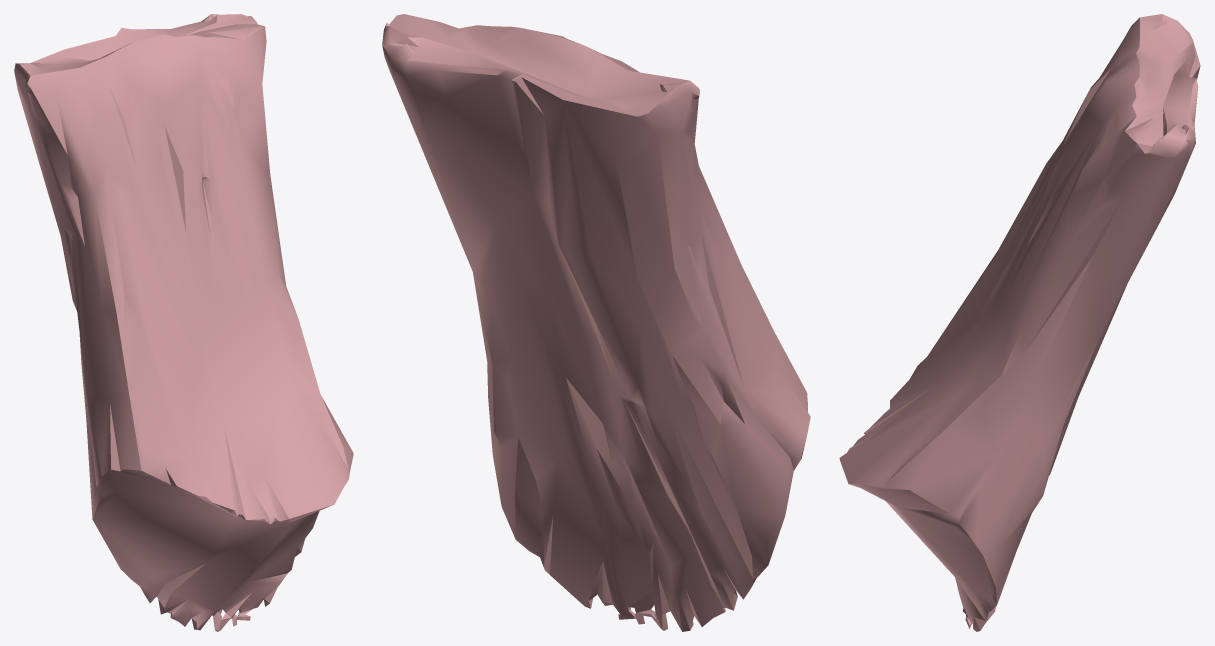
Rendered from fma55230_fj2807.glb.
3 views of the same model, side by side, from view 1: azimuth 30°, elevation 25°; view 2: azimuth 150°, elevation 25°; view 3: azimuth 270°, elevation 25° (orthographic). The views are drawn at different scales.
Parts seen in each view (by area): view 1: FMA55230_FJ2807; view 2: FMA55230_FJ2807; view 3: FMA55230_FJ2807.
Part boxes in pixels (<box>): FMA55230_FJ2807: <box>14,14,353,631</box>; FMA55230_FJ2807: <box>382,14,810,631</box>; FMA55230_FJ2807: <box>839,14,1200,631</box>.
Bounding box in the file's own units: 0.00317 × 0.00651 × 0.00386.
